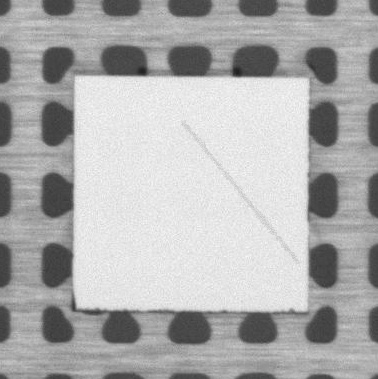DIE_CRACK: (183, 122, 297, 263)
